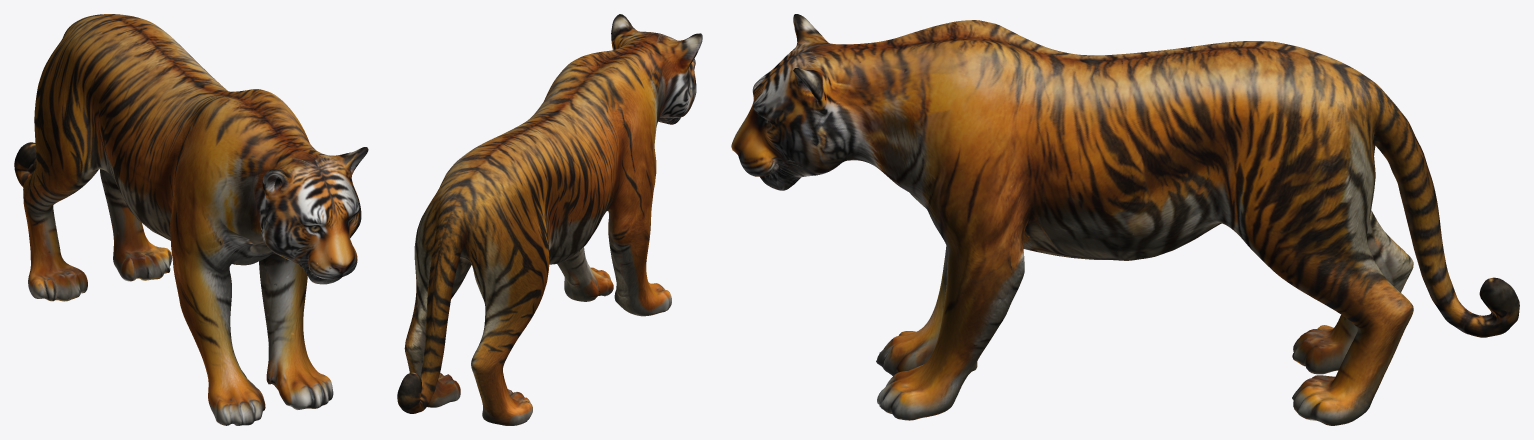
The model's file is tiger.glb.
3 renders of one model, left to right at view 1: azimuth 30°, elevation 25°; view 2: azimuth 150°, elevation 25°; view 3: azimuth 270°, elevation 25°, orthographic. The views are drawn at different scales.
Parts seen in each view (by area): view 1: Mesh1_Mesh1.003; view 2: Mesh1_Mesh1.003; view 3: Mesh1_Mesh1.003.
Boxes of the visible parts, box(x1,y1,x2,y2) form: Mesh1_Mesh1.003: box(14, 14, 368, 425); Mesh1_Mesh1.003: box(397, 14, 702, 425); Mesh1_Mesh1.003: box(731, 14, 1519, 425).
Bounding box in the file's own units: 0.7318 × 1.5 × 3.
1 material, 1 textured.
